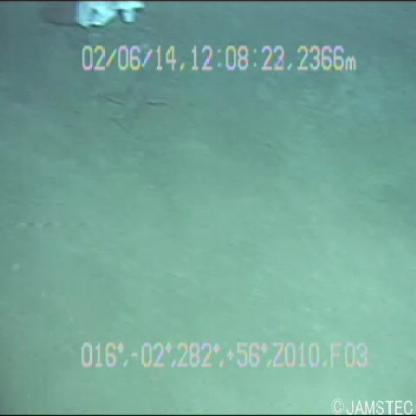Rác: (58, 2, 147, 32)
